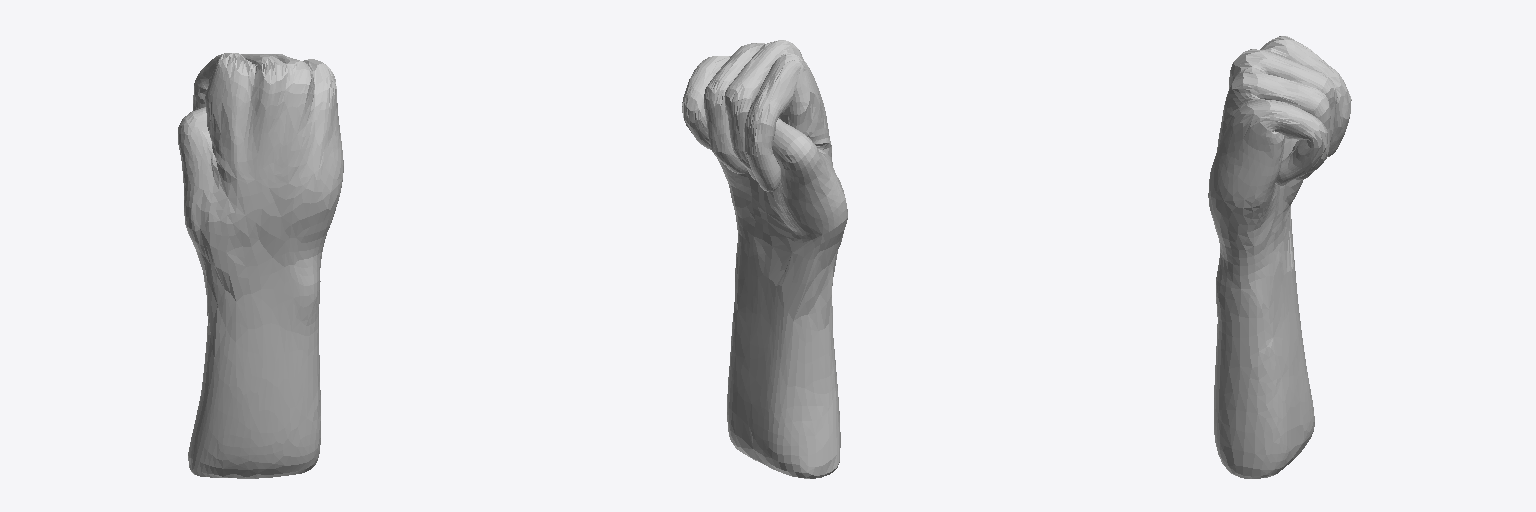
File: mainm.obj
3 views of the same model, side by side, from view 1: azimuth 30°, elevation 25°; view 2: azimuth 150°, elevation 25°; view 3: azimuth 270°, elevation 25° (orthographic).
Visible parts, largest first — view 1: ZBrush_defualt_group; view 2: ZBrush_defualt_group; view 3: ZBrush_defualt_group.
Boxes of the visible parts, x1=… form: ZBrush_defualt_group: x1=178, y1=53, x2=343, y2=478; ZBrush_defualt_group: x1=682, y1=40, x2=847, y2=478; ZBrush_defualt_group: x1=1208, y1=36, x2=1351, y2=478.
Size of the model in its own units: 2.68 by 7.3 by 2.3.